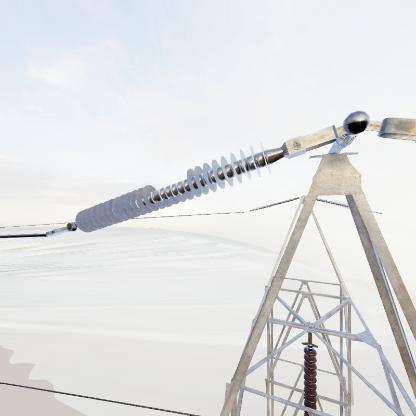insulator: (70, 140, 271, 235), (301, 344, 320, 416)
